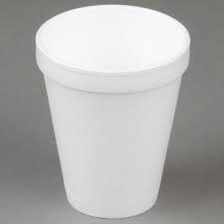paper_cup: (29, 0, 195, 224)
